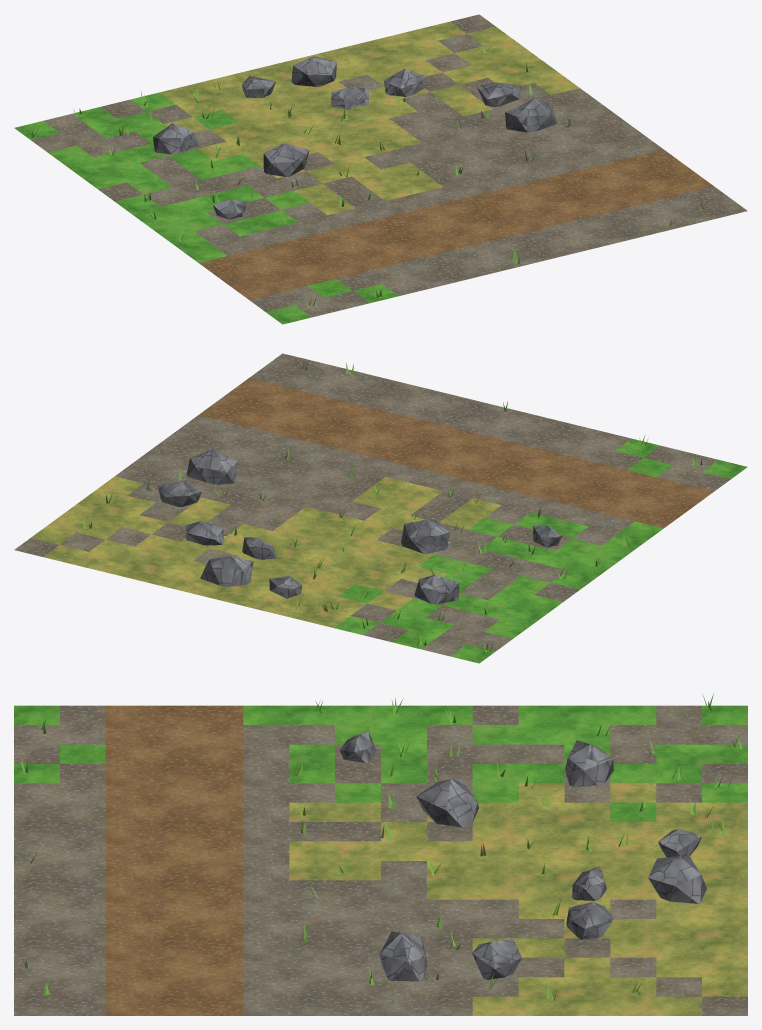
File: chunk_8_17.glb
The picture shows the model from 3 angles, top to bottom: view 1: azimuth 30°, elevation 25°; view 2: azimuth 150°, elevation 25°; view 3: azimuth 270°, elevation 25°; orthographic projection. The views are drawn at different scales.
Visible parts, largest first — view 1: chunk_8_17; view 2: chunk_8_17; view 3: chunk_8_17.
Part boxes in pixels (left/top/right/bottom): chunk_8_17: left=14, top=14, right=747, bottom=324; chunk_8_17: left=14, top=353, right=747, bottom=663; chunk_8_17: left=14, top=693, right=747, bottom=1015.
Bounding box in the file's own units: 16 × 1.3 × 16.
6 materials, 5 textured.
